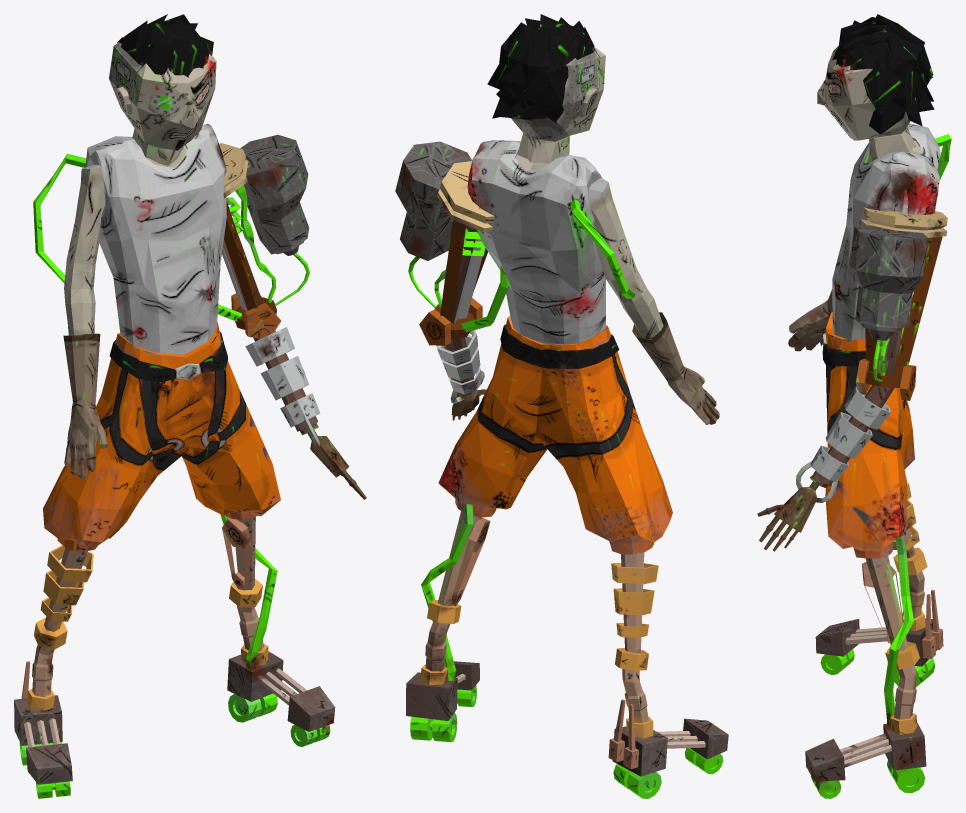
File: CyborgFINALAnimation_000001.obj
The picture shows the model from 3 angles, left to right: view 1: azimuth 30°, elevation 25°; view 2: azimuth 150°, elevation 25°; view 3: azimuth 270°, elevation 25°; orthographic projection. The views are drawn at different scales.
Visible parts, largest first — view 1: CyborgMesh_Cube.002; view 2: CyborgMesh_Cube.002; view 3: CyborgMesh_Cube.002.
Boxes of the visible parts, x1,y1,x2,y2 form: CyborgMesh_Cube.002: (14,14,366,798); CyborgMesh_Cube.002: (395,14,728,798); CyborgMesh_Cube.002: (757,14,951,798).
Size of the model in its own units: 4.1 by 9.64 by 2.37.
